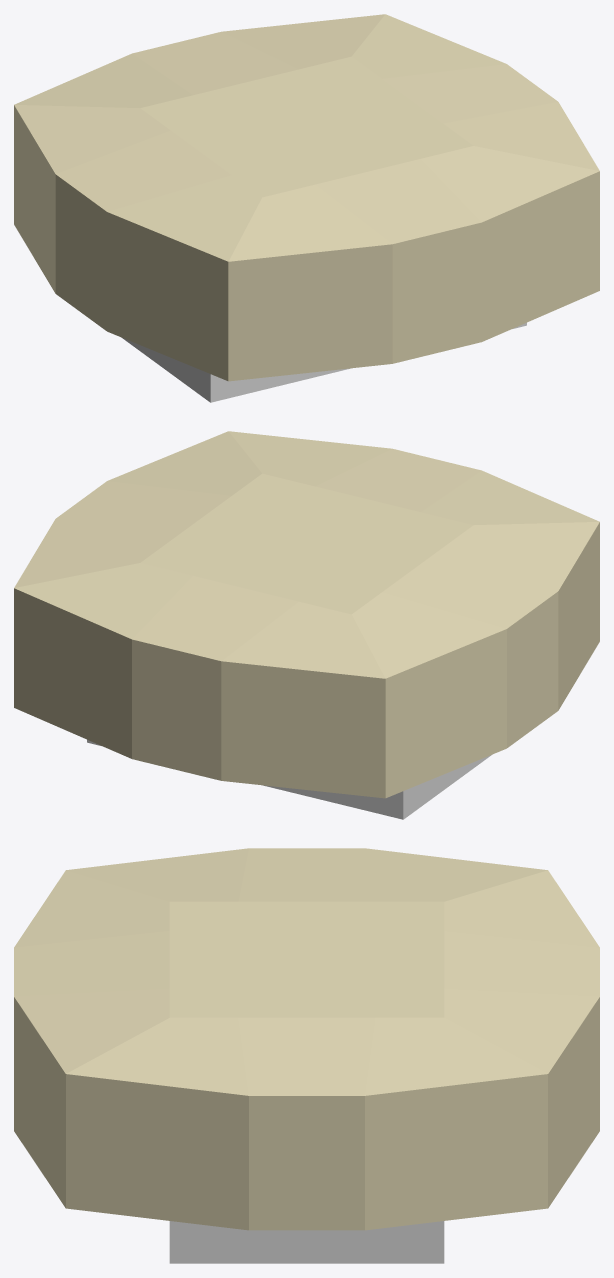
File: SpawnerV2.fbx
3 renders of one model, top to bottom at view 1: azimuth 30°, elevation 25°; view 2: azimuth 150°, elevation 25°; view 3: azimuth 270°, elevation 25°, orthographic. The views are drawn at different scales.
Visible parts, largest first — view 1: Cube; view 2: Cube; view 3: Cube.
Boxes of the visible parts, x1,y1,x2,y2 form: Cube: [14, 14, 599, 402]; Cube: [14, 431, 599, 819]; Cube: [14, 848, 599, 1263].
Size of the model in its own units: 427 by 174 by 427.
